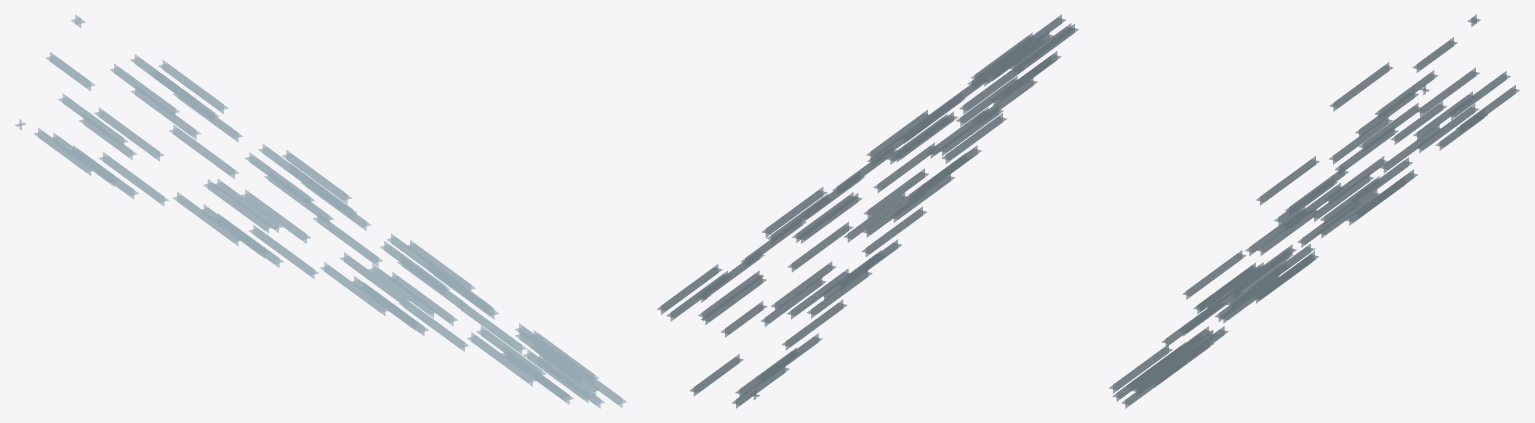
File: wp_water_316.obj
3 views of the same model, side by side, from view 1: azimuth 30°, elevation 25°; view 2: azimuth 150°, elevation 25°; view 3: azimuth 330°, elevation 25° (orthographic). The views are drawn at different scales.
Bounding box in the file's own units: 0.3344 × 0.2618 × 1.82.
1 material, 1 textured.
